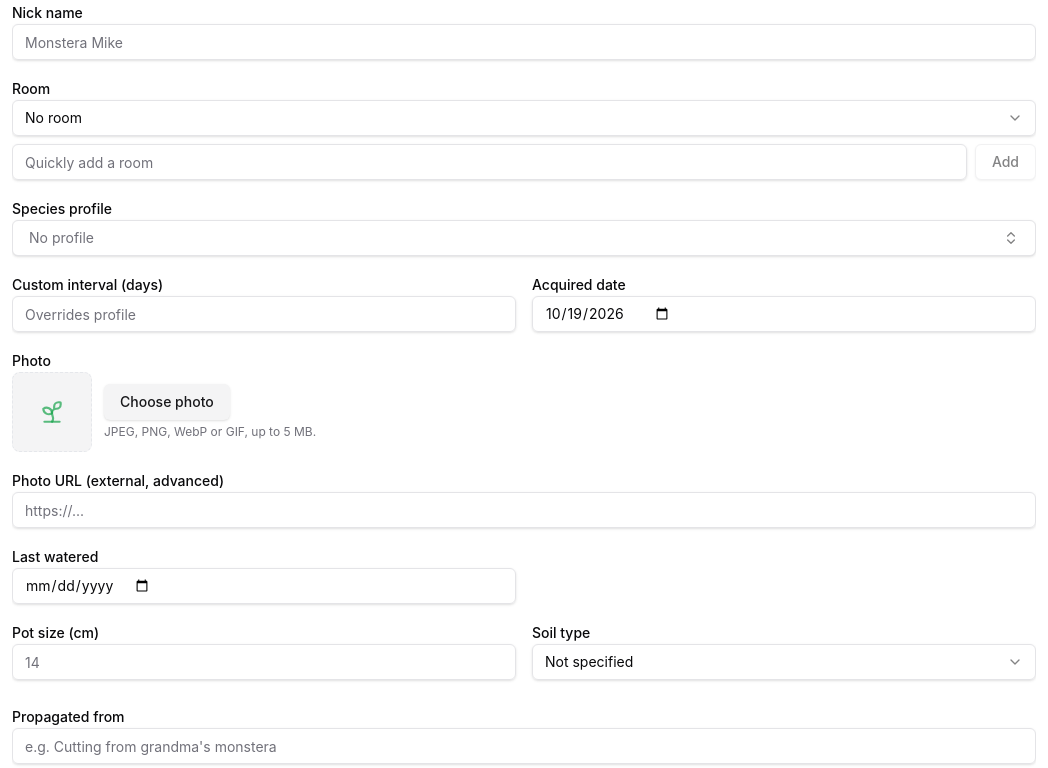
PlantForm › previews a manually entered custom interval
Type "5" into the number field labelled "Custom interval (days)". click: (264, 314)
box: [12, 296, 516, 332]
(page scrolled)
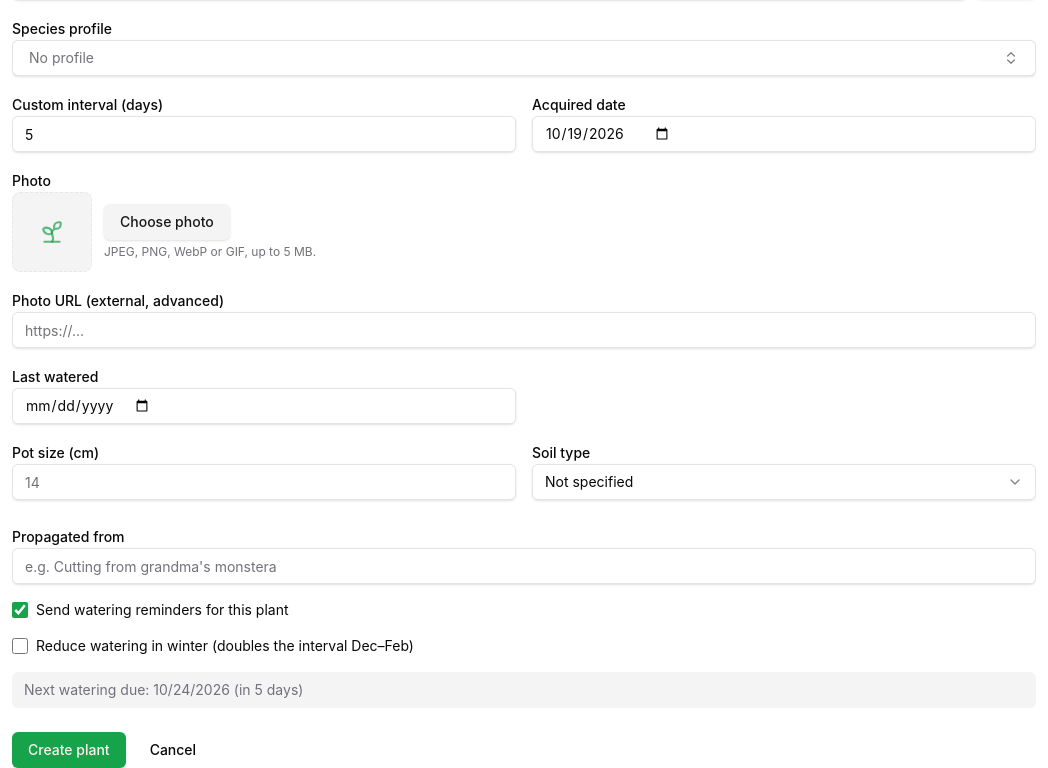
Now the message shows "in 5 days", box [24, 681, 303, 698]
